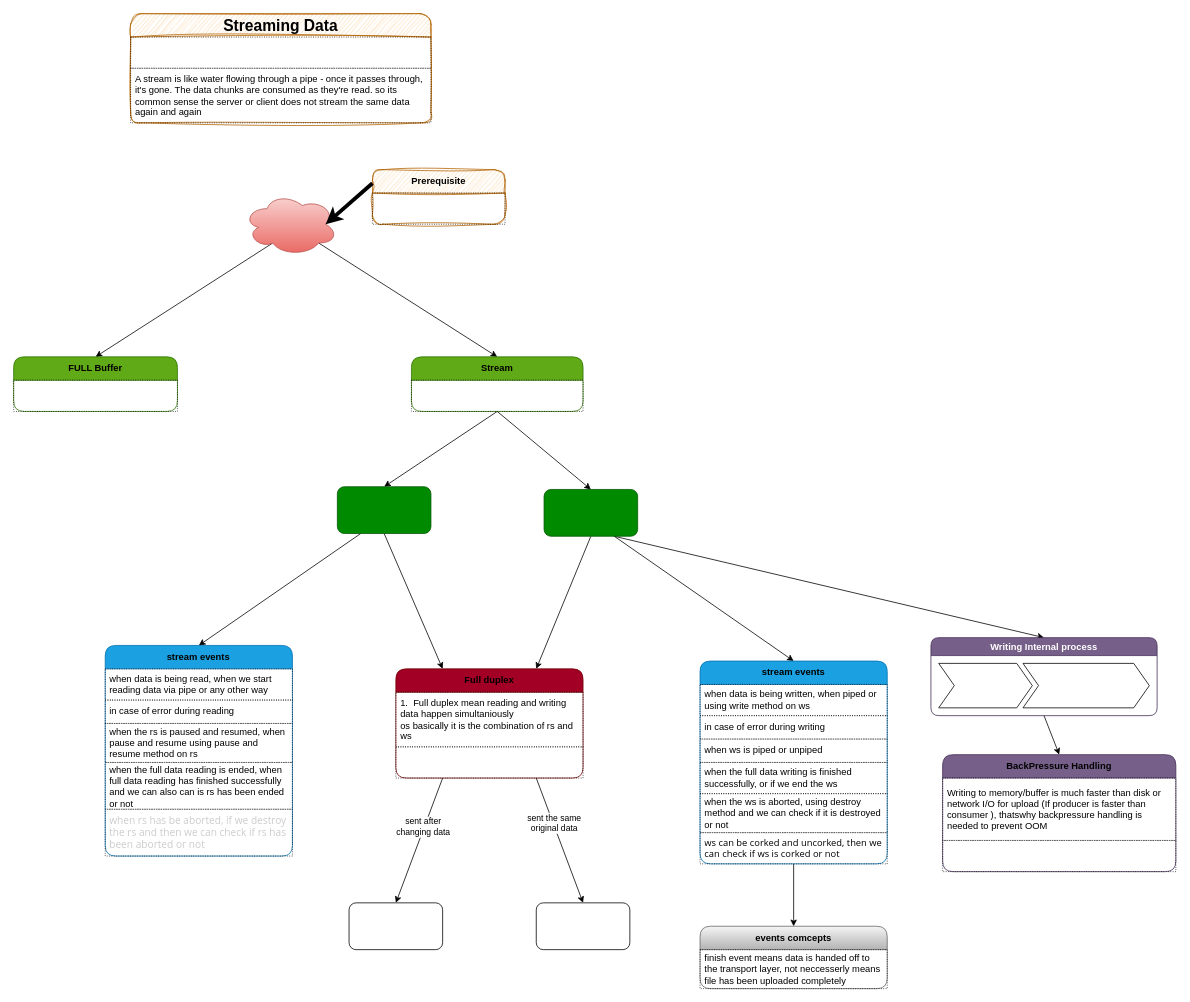
Image size: 1190x1002. Some labels were removed from this diagram. Here are the shapes that lost their labels. From the top down, the centre of each, then its label:
point (280, 52): handling data in chunks, to overcome RAM overload
point (290, 223): Data
point (438, 208): Should know about event emitters ( ee.svg )
point (95, 395): 1. Load full data into RAM
point (497, 395): 1. read and write the data in chunk buffer
point (384, 510): read in stream(rs)
point (590, 512): write in stream(ws)
point (985, 685): first the data is store in a buffer chunk
point (1085, 685): Then from the Buffer data in flushed to the disk
point (489, 762): 2. Used in TCP, UDP etc
point (1059, 856): Backpressure handling can be manual or automatic
point (395, 926): Transform
point (582, 926): passthrough
